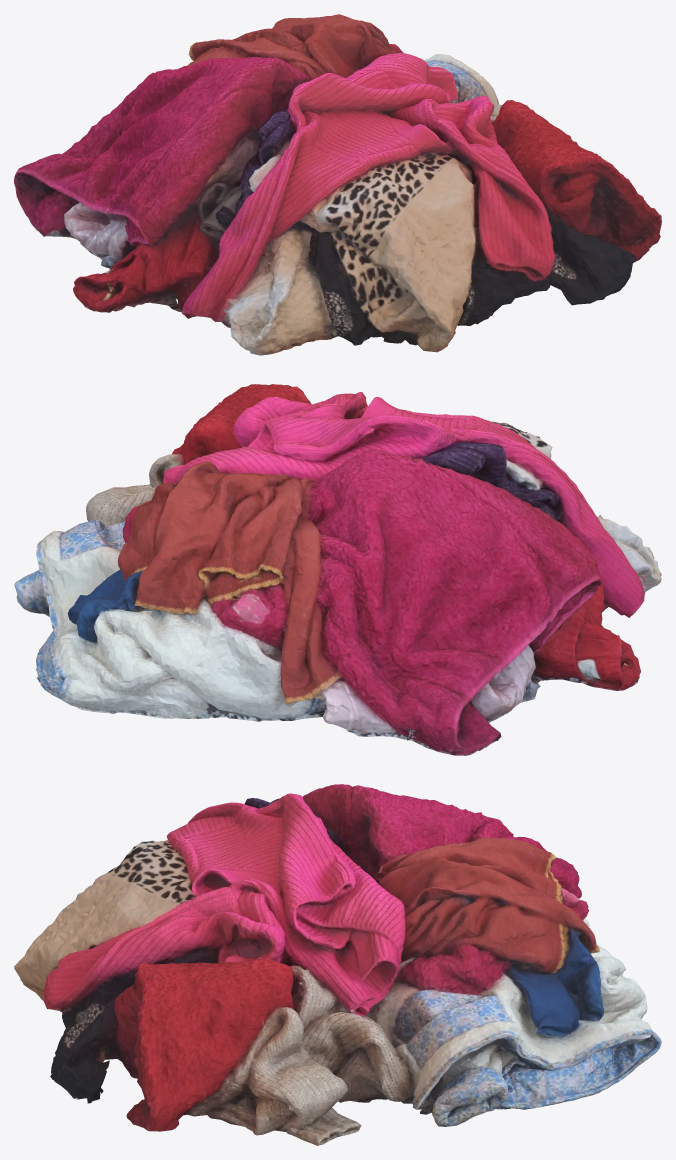
The model's file is sf-pile-of-clothes-b5a57f.glb.
3 views of the same model, one above another, from view 1: azimuth 30°, elevation 25°; view 2: azimuth 150°, elevation 25°; view 3: azimuth 270°, elevation 25° (orthographic). The views are drawn at different scales.
Visible parts, largest first — view 1: Dress_pile_Dress_pile_u1_v1_0; view 2: Dress_pile_Dress_pile_u1_v1_0; view 3: Dress_pile_Dress_pile_u1_v1_0.
Boxes of the visible parts, x1,y1,x2,y2 form: Dress_pile_Dress_pile_u1_v1_0: (14, 14, 661, 355); Dress_pile_Dress_pile_u1_v1_0: (14, 384, 661, 755); Dress_pile_Dress_pile_u1_v1_0: (14, 784, 661, 1145).
Bounding box in the file's own units: 0.8459 × 0.2914 × 0.8726.
Materials: 1 (1 with a texture image).
